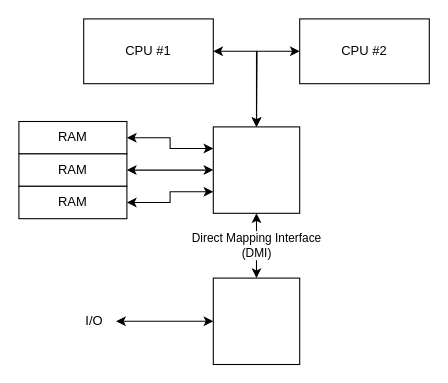
The diagram is 448 pixels wide and 383 high, and some of its shapes have lost their labels. Each missing label, with the box of its shape:
I/O Controller Hub (ICH): (212, 277, 300, 364)
Memory Controller Hub (MCH): (212, 126, 300, 213)
